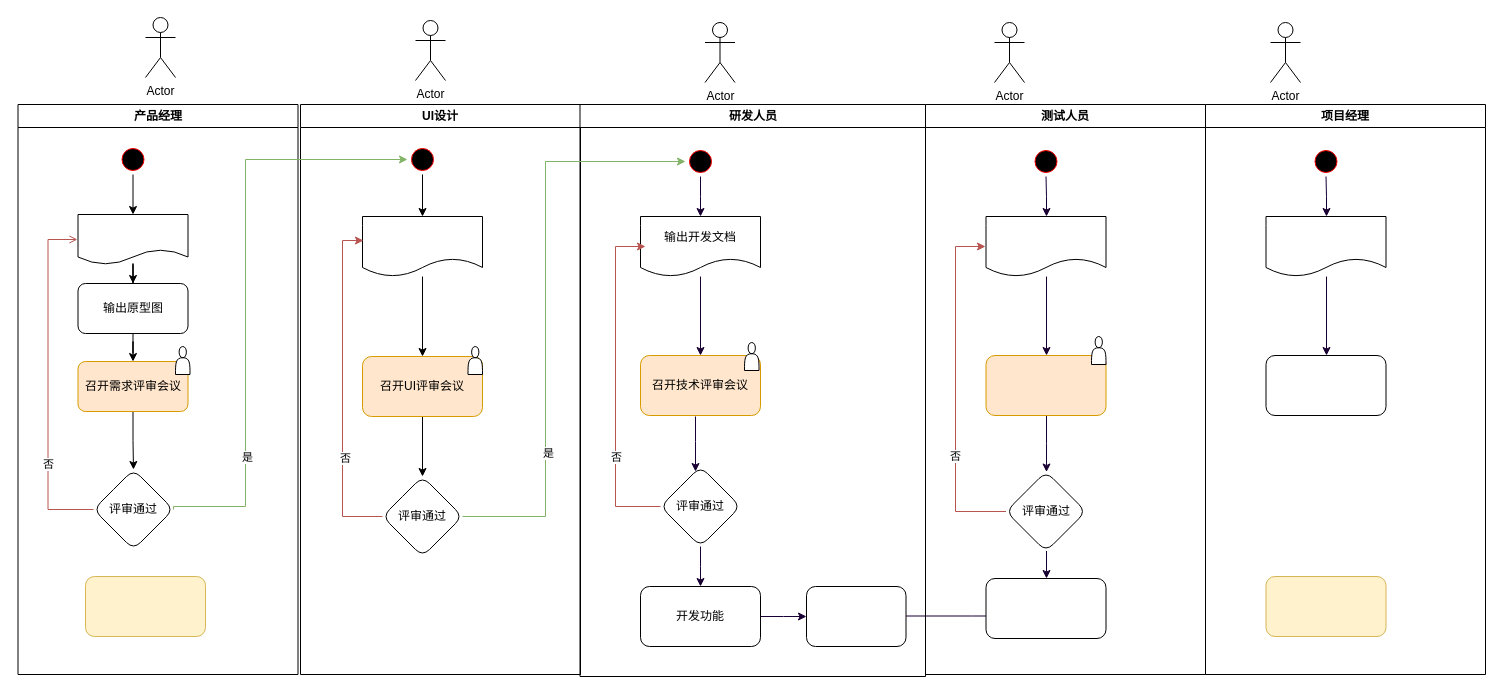
The diagram is 1503 pixels wide and 694 high, and some of its shapes have lost their labels. The shapes that lost their labels are listed below. From the top down, each one's centre as x and y in pixels, then its label:
At (132,239): "输出需求文档".
At (422,246): "输出UI设计图".
At (1045,246): "输出测试文档".
At (1325,246): "输出开发计划文档".
At (1045,385): "召开测试用例评审会议".
At (1325,385): "公布计划文档并告知产品经理".
At (145,606): "关注上线时间点与需求变更".
At (856,616): "提测".
At (1045,608): "测试".
At (1325,606): "持续跟进开发进度".
